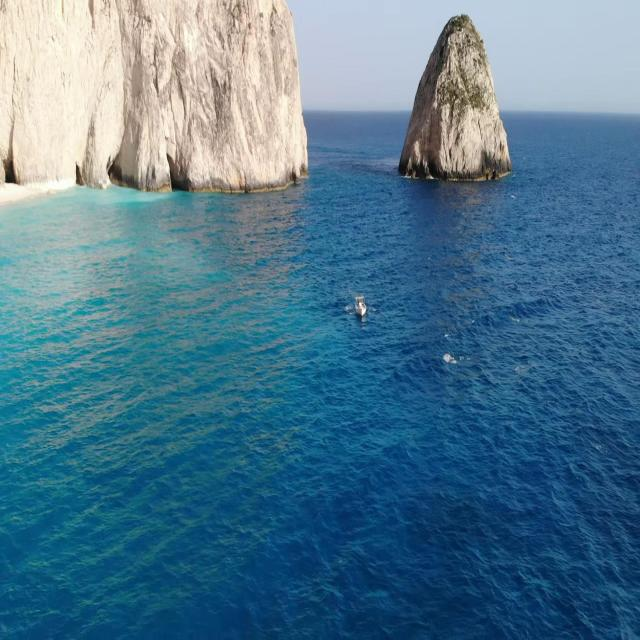boat: (354, 291, 368, 322)
